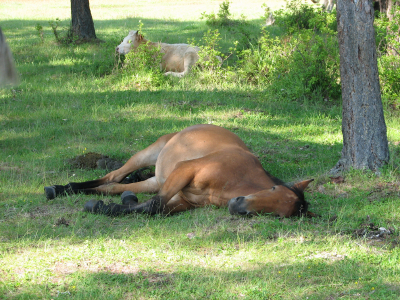Horse: (41, 119, 313, 247), (115, 29, 240, 84)
